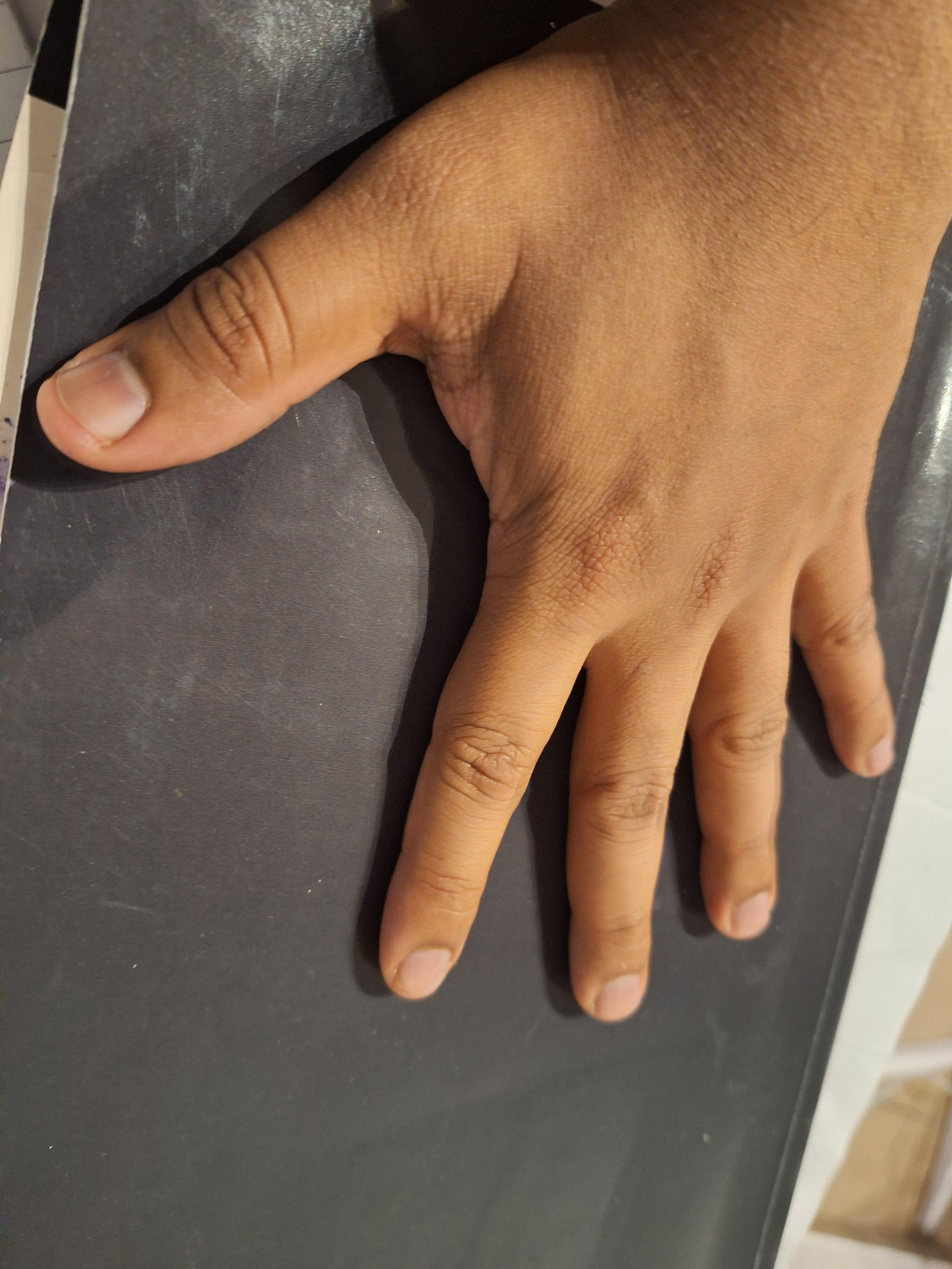Fingernail: (56, 349, 151, 446), (395, 948, 451, 999), (596, 974, 641, 1020), (734, 891, 771, 936), (867, 734, 892, 777)
